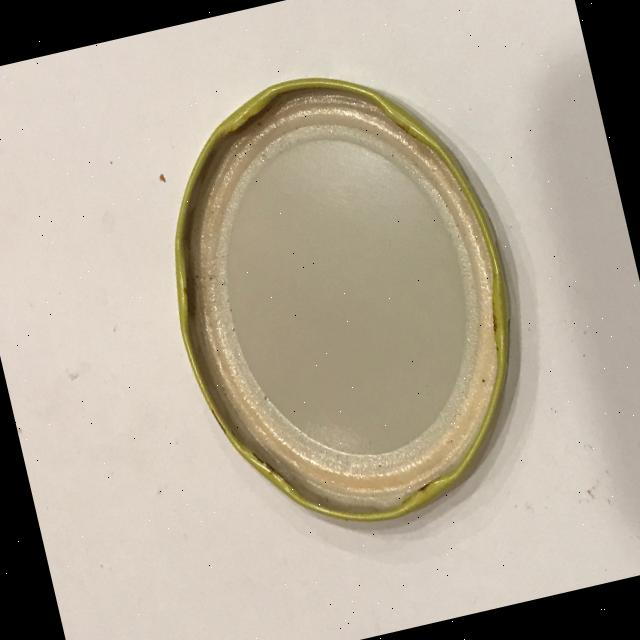metal: (130, 41, 554, 556)
